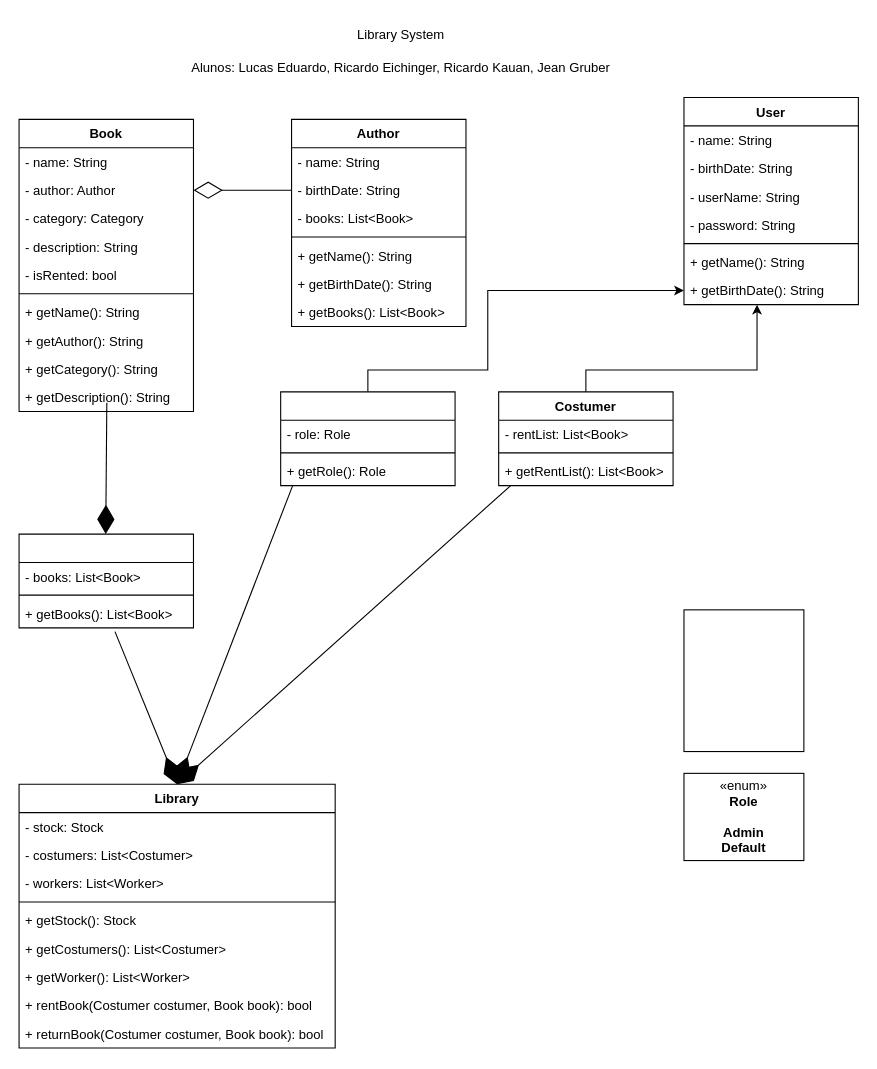
This 877x1069 diagram has some shape labels left out. Each missing label, with the box of its shape:
Stock: (18, 533, 193, 628)
Worker: (280, 391, 455, 486)
«enum» Category Horror Romance Sci-fi Drama Comedy: (683, 609, 804, 752)
